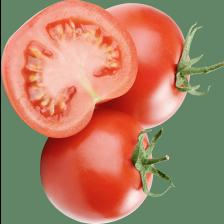tomato: (0, 0, 138, 139), (84, 4, 224, 130), (38, 107, 173, 224)
